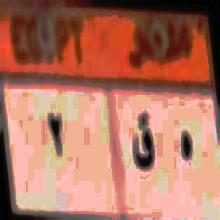2: (44, 101, 69, 170)
haa: (176, 121, 195, 171)
qaaf: (129, 110, 157, 177)
